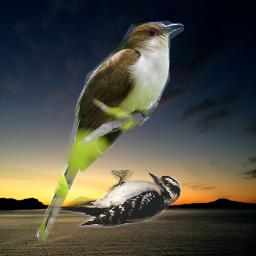Cuckoo: (35, 20, 184, 241)
Woodpecker: (59, 170, 189, 231)
